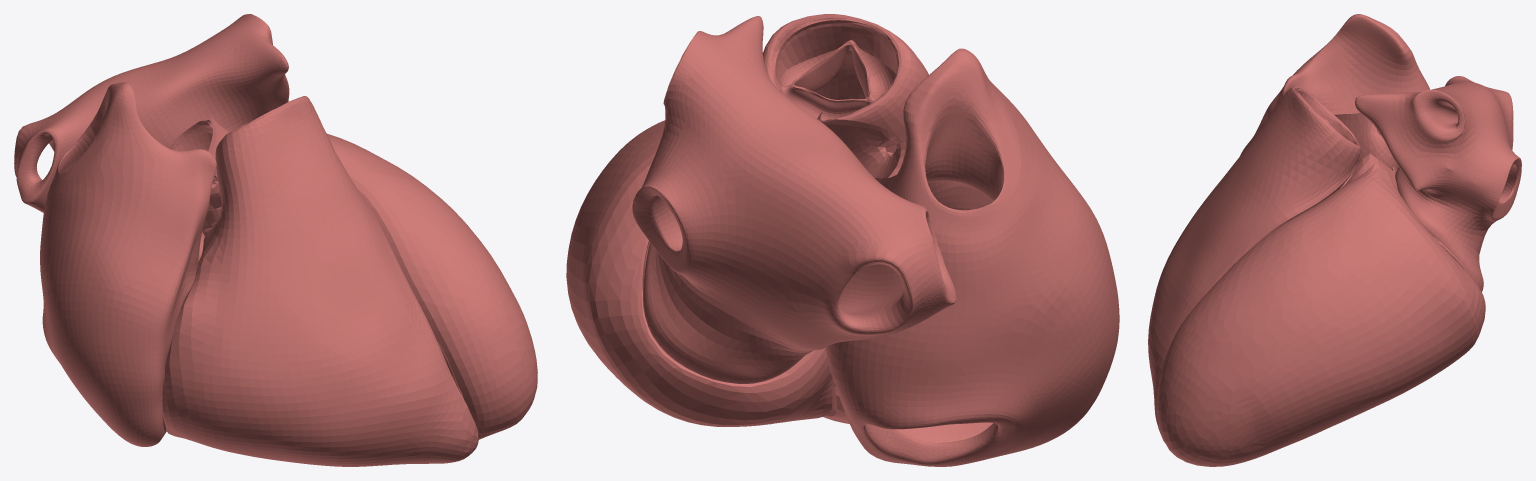
The model's file is VH_M_Heart_0.6.glb.
3 renders of one model, left to right at view 1: azimuth 30°, elevation 25°; view 2: azimuth 150°, elevation 25°; view 3: azimuth 270°, elevation 25°, orthographic. The views are drawn at different scales.
Parts seen in each view (by area): view 1: VH_M_heart_right_ventricle, VH_M_right_cardiac_atrium, VH_M_heart_left_ventricle, VH_M_left_cardiac_atrium, VH_M_aortic_valve; view 2: VH_M_left_cardiac_atrium, VH_M_right_cardiac_atrium, VH_M_heart_left_ventricle, VH_M_heart_right_ventricle, VH_M_pulmonary_valve, VH_M_aortic_valve; view 3: VH_M_heart_left_ventricle, VH_M_heart_right_ventricle, VH_M_left_cardiac_atrium, VH_M_right_cardiac_atrium, VH_M_aortic_valve.
Boxes of the visible parts, x1,y1,x2,y2 form: VH_M_heart_right_ventricle: (162,96,478,466); VH_M_right_cardiac_atrium: (40,82,216,446); VH_M_heart_left_ventricle: (202,133,537,439); VH_M_left_cardiac_atrium: (14,14,289,212); VH_M_aortic_valve: (170,113,229,210); VH_M_left_cardiac_atrium: (632,16,956,383); VH_M_right_cardiac_atrium: (826,48,1119,466); VH_M_heart_left_ventricle: (566,120,833,426); VH_M_heart_right_ventricle: (763,14,928,423); VH_M_pulmonary_valve: (773,19,897,119); VH_M_aortic_valve: (817,111,900,188); VH_M_heart_left_ventricle: (1156,153,1485,466); VH_M_heart_right_ventricle: (1148,86,1360,442); VH_M_left_cardiac_atrium: (1355,76,1521,291); VH_M_right_cardiac_atrium: (1240,14,1429,155); VH_M_aortic_valve: (1334,112,1398,169).
Bounding box in the file's own units: 0.1243 × 0.1055 × 0.1052.
